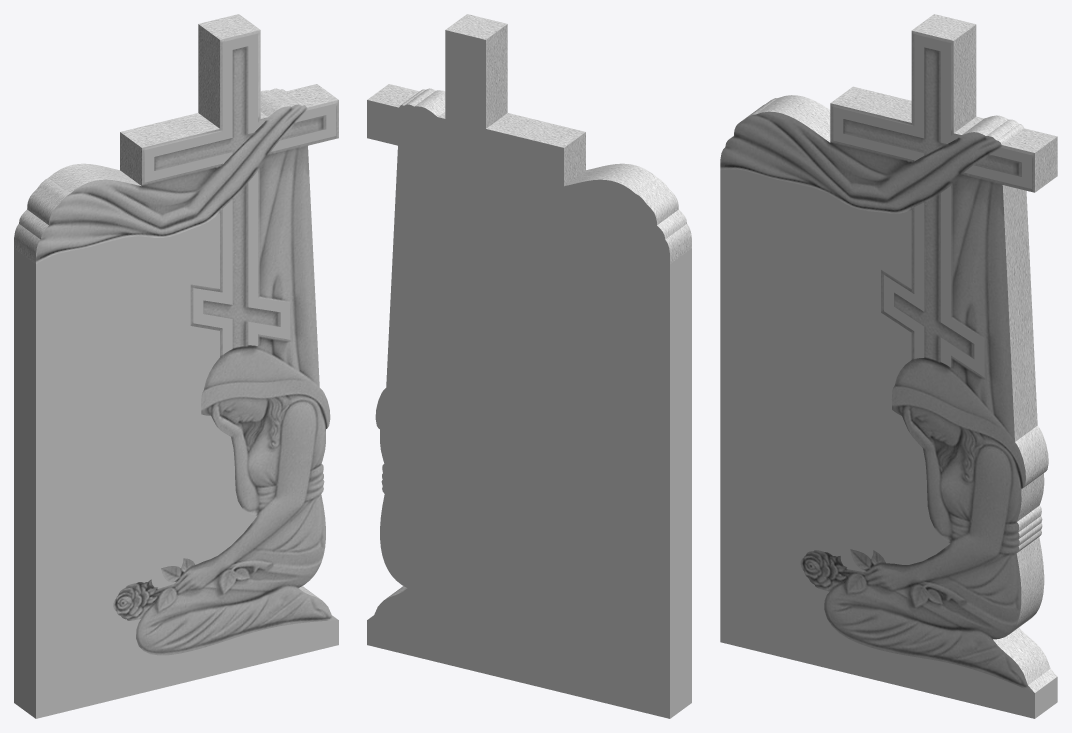
The model's file is cn76de870f7c_tkf.glb.
3 views of the same model, side by side, from view 1: azimuth 30°, elevation 25°; view 2: azimuth 150°, elevation 25°; view 3: azimuth 330°, elevation 25° (orthographic). The views are drawn at different scales.
Parts seen in each view (by area): view 1: Pam-d01-260, Pam-d01-260_2_notexture; view 2: Pam-d01-260, Pam-d01-260_2_notexture; view 3: Pam-d01-260, Pam-d01-260_2_notexture.
Boxes of the visible parts, bbox=[...] form: Pam-d01-260: bbox=[14, 33, 338, 718]; Pam-d01-260_2_notexture: bbox=[14, 14, 338, 655]; Pam-d01-260: bbox=[367, 30, 691, 718]; Pam-d01-260_2_notexture: bbox=[367, 14, 691, 618]; Pam-d01-260: bbox=[720, 34, 1057, 718]; Pam-d01-260_2_notexture: bbox=[720, 14, 1057, 692].
Size of the model in its own units: 0.4 by 0.8 by 0.05.
1 material, 1 textured.
